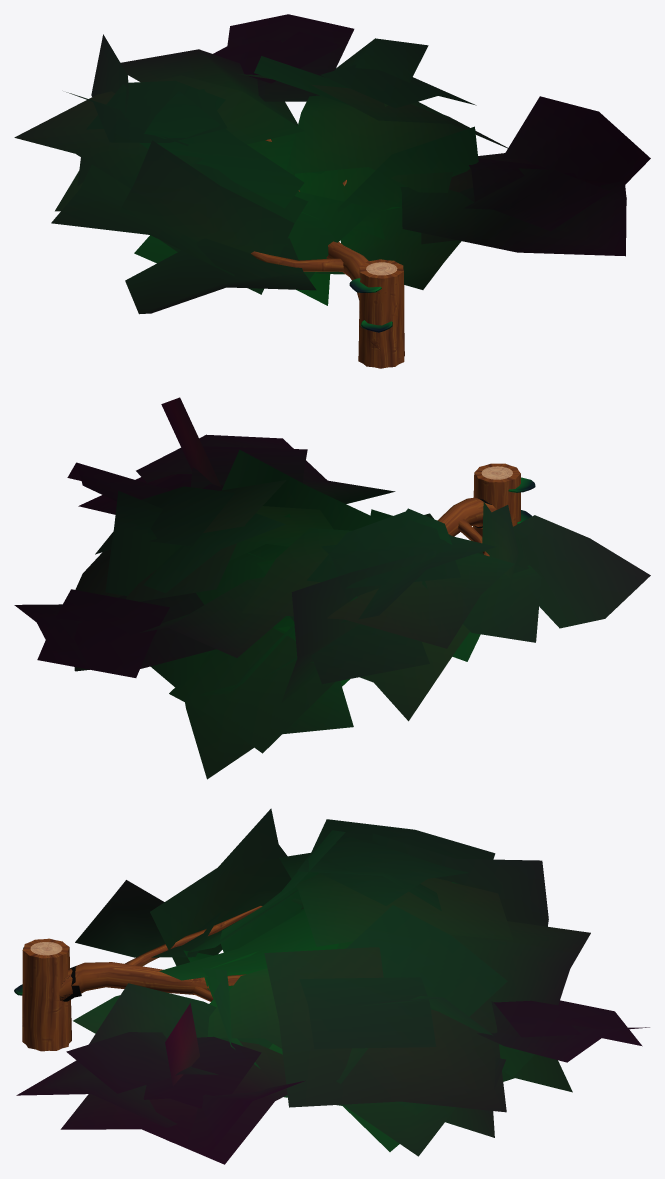
The model's file is obj_harvests_trees_pine03_p08.fbx.
The picture shows the model from 3 angles, top to bottom: view 1: azimuth 30°, elevation 25°; view 2: azimuth 150°, elevation 25°; view 3: azimuth 270°, elevation 25°; orthographic projection. The views are drawn at different scales.
Visible parts, largest first — view 1: chunk08; view 2: chunk08; view 3: chunk08.
Part boxes in pixels (box(x1,y1,x2,y2)): chunk08: box(14, 14, 650, 368); chunk08: box(14, 397, 650, 779); chunk08: box(14, 808, 649, 1164).
Size of the model in its own units: 50.18 by 18.66 by 49.93.
